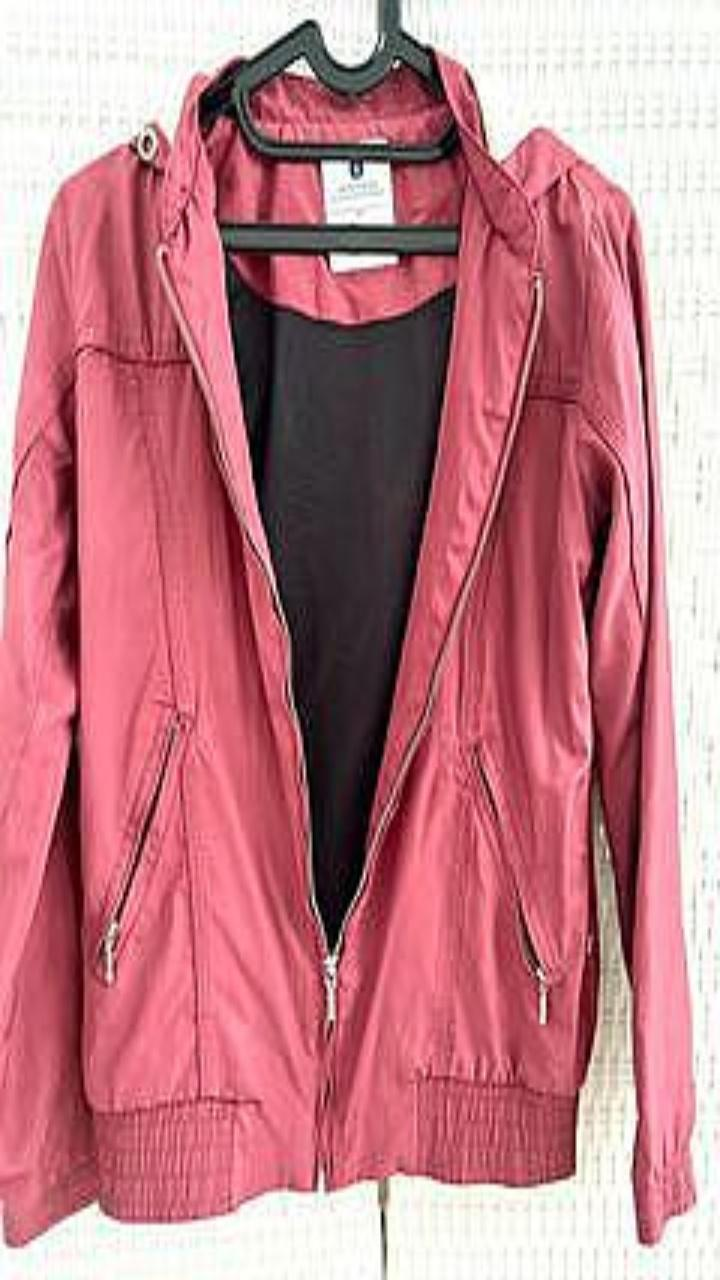Sports_Jacket: (0, 49, 695, 1245)
